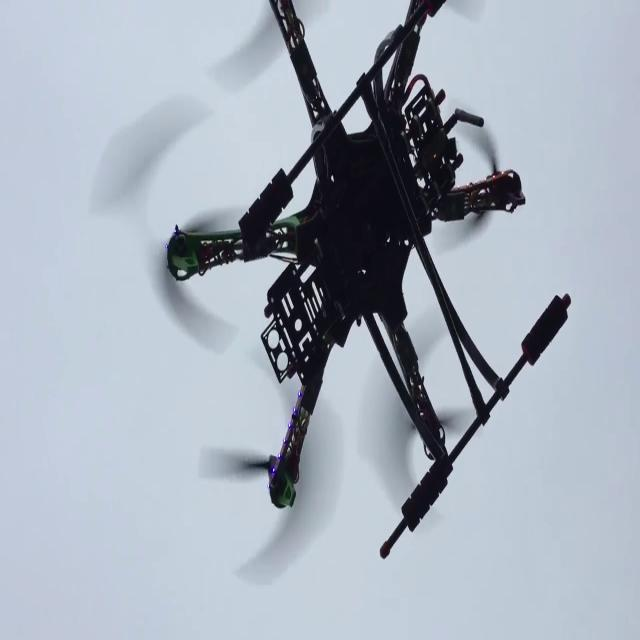drone: (150, 0, 584, 620)
